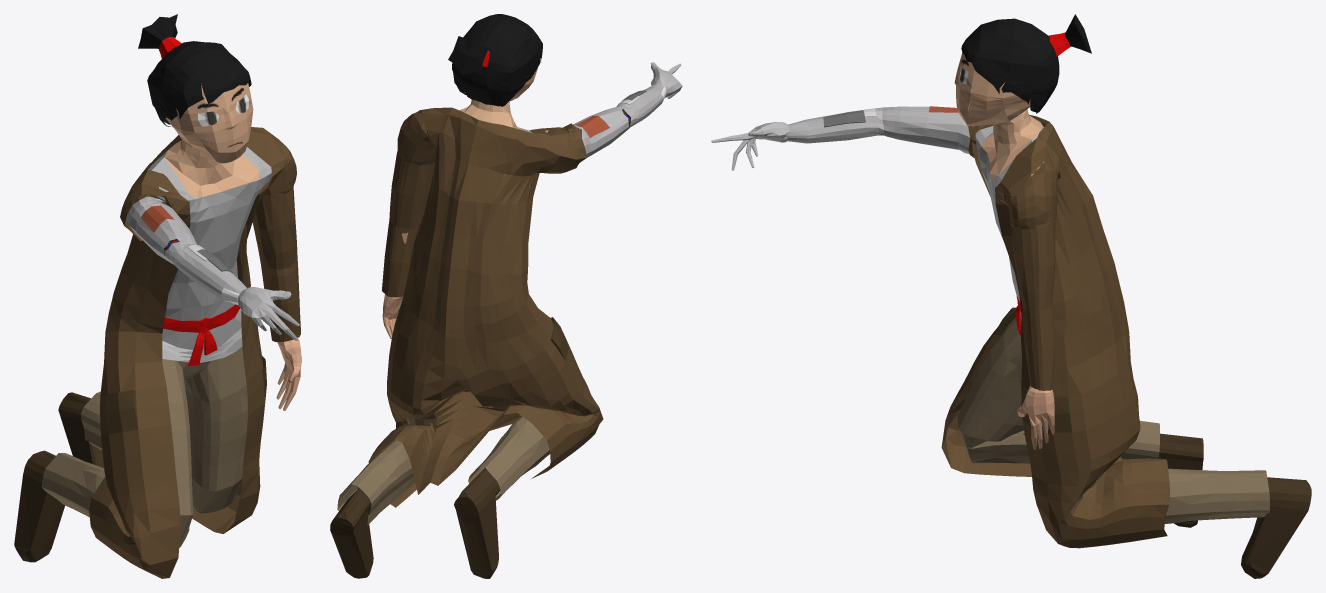
File: One_Die_000026.obj
3 views of the same model, side by side, from view 1: azimuth 30°, elevation 25°; view 2: azimuth 150°, elevation 25°; view 3: azimuth 270°, elevation 25° (orthographic). The views are drawn at different scales.
Visible parts, largest first — view 1: Hair_Cube.004; view 2: Hair_Cube.004; view 3: Hair_Cube.004.
Part boxes in pixels (box(x1,y1,x2,y2)): Hair_Cube.004: box(14, 14, 301, 578); Hair_Cube.004: box(330, 14, 682, 578); Hair_Cube.004: box(711, 14, 1311, 578).
Bounding box in the file's own units: 1.18 × 3.03 × 3.02.
